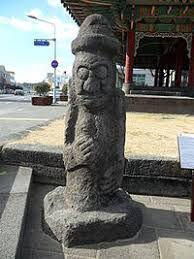Stone Statue: (36, 9, 150, 250)
